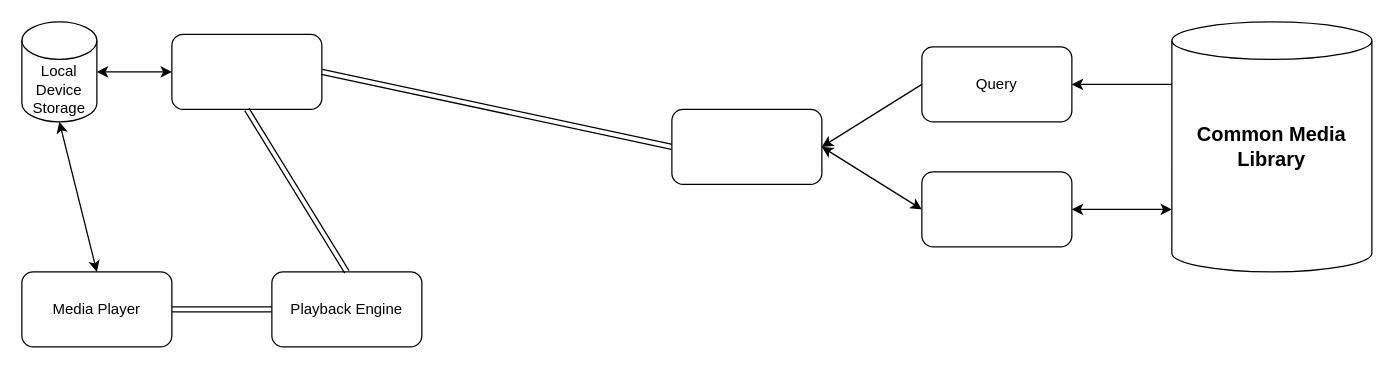
Some shapes in this 1394 by 369 pixel diagram are drawn without their labels. The shapes that lost their labels are listed below. From the top down, each one's centre as x and y in pixels, then its label:
the point at 246,71: Local Playback Storage Controller
the point at 746,146: Media Library Controller
the point at 996,209: IO
